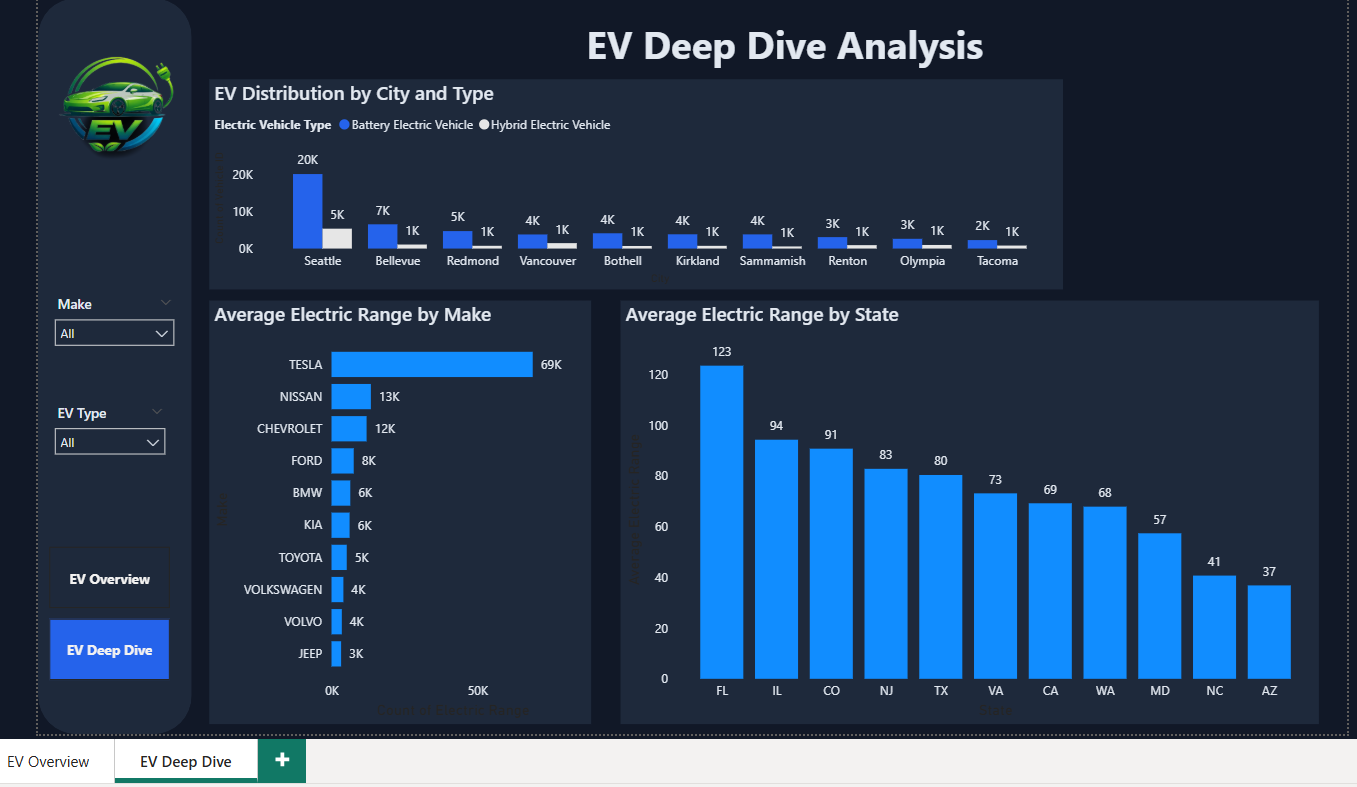

What the dashboard file says about the page in this screenshot:
{"tool":"powerbi","page":{"name":"EV Deep Dive","canvas":[1280,720],"ordinal":1},"visuals":[{"type":"shape","box":[0,0,150.4,720.2],"z":0},{"type":"textbox","box":[181,14.7,1099.3,77],"z":1000},{"type":"slicer","fields":{"Values":["Electric_Vehicle_Population_Dat.Make"]},"box":[6.1,284.9,137,74.6],"z":2000},{"type":"slicer","fields":{"Values":["Electric_Vehicle_Population_Dat.Electric Vehicle Type"]},"box":[6.1,391.3,128.4,77],"z":3000},{"type":"clusteredColumnChart","title":"EV Distribution by City and Type","fields":{"Category":["Electric_Vehicle_Population_Dat.City"],"Y":["CountNonNull(Electric_Vehicle_Population_Dat.Vehicle ID)"],"Series":["Electric_Vehicle_Population_Dat.Electric Vehicle Type"]},"box":[167.6,78.9,835.2,205.6],"z":4000},{"type":"clusteredBarChart","title":"Average Electric Range by Make","fields":{"Category":["Electric_Vehicle_Population_Dat.Make"],"Y":["CountNonNull(Electric_Vehicle_Population_Dat.Electric Range)"]},"box":[167.6,295.8,373.2,414.1],"z":5000},{"type":"clusteredColumnChart","fields":{"Category":["Electric_Vehicle_Population_Dat.State"],"Y":["Electric_Vehicle_Population_Dat.Average Electric Range"]},"box":[570.4,295.8,683.1,414.1],"z":6000},{"type":"pageNavigator","box":[11.3,536.6,118.3,131],"z":7000},{"type":"image","box":[0,37.9,150.4,135.7],"z":7001}]}

Visuals, with their boxes on the page's 1280x720 design canvas (x1, y1, x2, y2). These are canvas units, not pixel positions in the 1357x787 screenshot, which may show the page scaled, cropped or inside an application window:
shape: bbox(0, 0, 150, 720)
textbox: bbox(181, 15, 1280, 92)
slicer - Electric_Vehicle_Population_Dat.Make: bbox(6, 285, 143, 360)
slicer - Electric_Vehicle_Population_Dat.Electric Vehicle Type: bbox(6, 391, 134, 468)
"EV Distribution by City and Type" clusteredColumnChart: bbox(168, 79, 1003, 284)
"Average Electric Range by Make" clusteredBarChart: bbox(168, 296, 541, 710)
clusteredColumnChart - Electric_Vehicle_Population_Dat.State x Electric_Vehicle_Population_Dat.Average Electric Range: bbox(570, 296, 1254, 710)
pageNavigator: bbox(11, 537, 130, 668)
image: bbox(0, 38, 150, 174)
